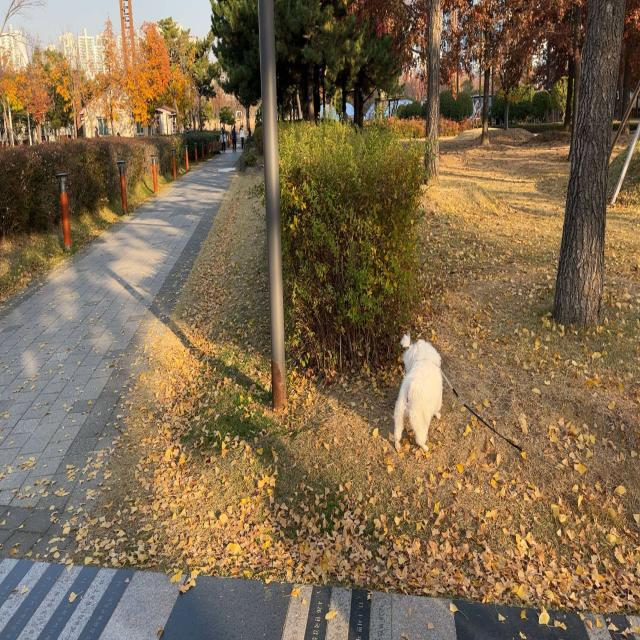Dog: (393, 329, 444, 453)
